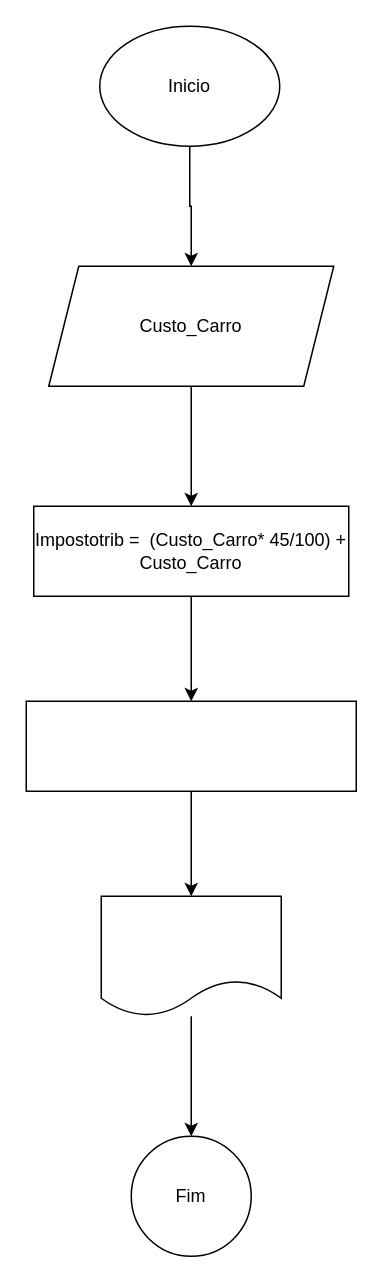
The diagram is 383 pixels wide and 1283 high, and some of its shapes have lost their labels. Each missing label, with the box of its shape:
Resultado: (100, 895, 281, 1016)
valorfinal = (impostotrib* 28/100) + impostotrib: (25, 700, 356, 791)
